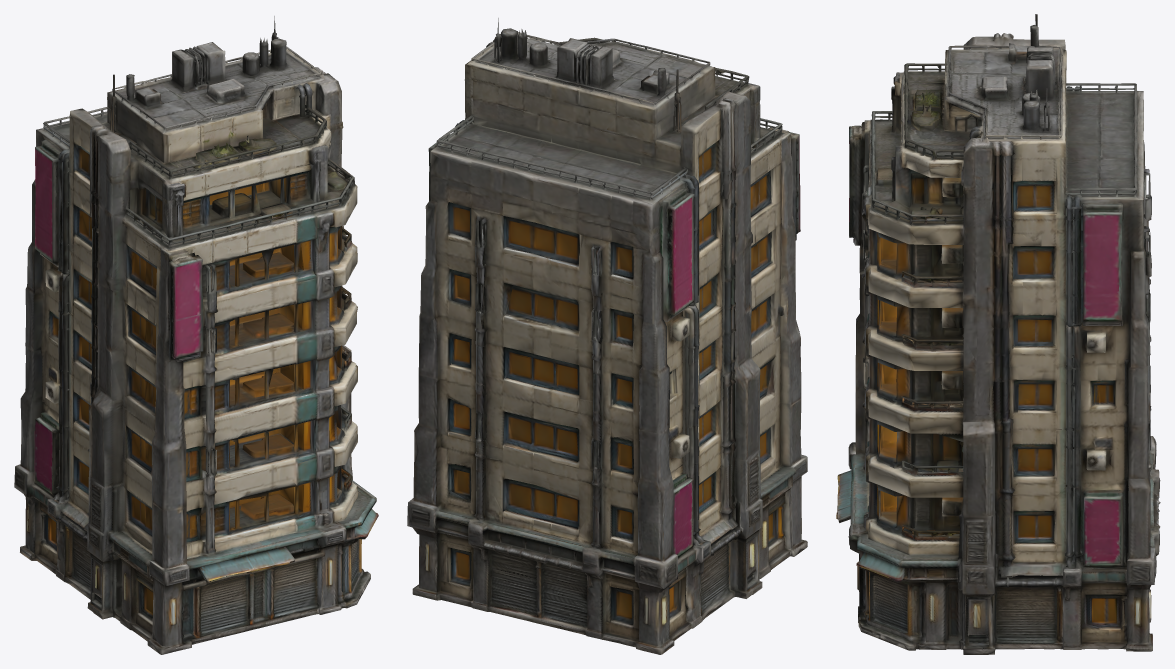
The model's file is kairox-corner-apartments.glb.
The picture shows the model from 3 angles, left to right: view 1: azimuth 30°, elevation 25°; view 2: azimuth 150°, elevation 25°; view 3: azimuth 270°, elevation 25°; orthographic projection. The views are drawn at different scales.
Visible parts, largest first — view 1: kairox-corner-apartments; view 2: kairox-corner-apartments; view 3: kairox-corner-apartments.
Boxes of the visible parts, box(x1,y1,x2,y2) form: kairox-corner-apartments: box(14, 16, 378, 654); kairox-corner-apartments: box(407, 18, 807, 654); kairox-corner-apartments: box(836, 14, 1160, 654).
Bounding box in the file's own units: 15.18 × 30 × 15.96.
Materials: 1 (1 with a texture image).
